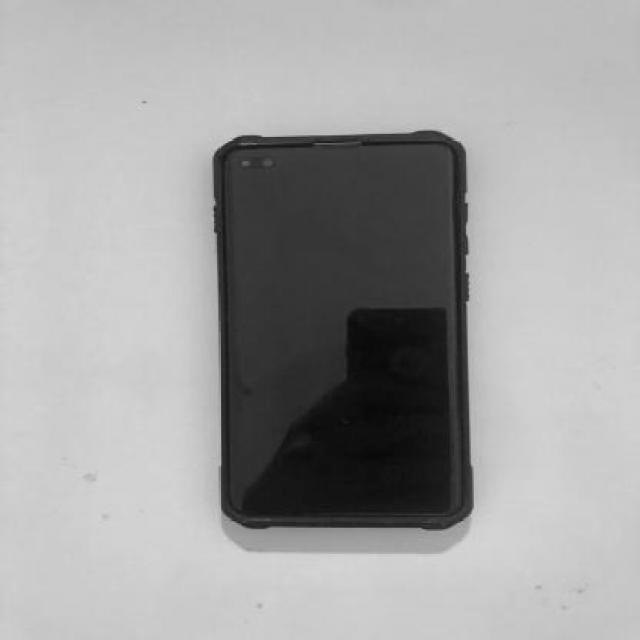fake: (209, 128, 474, 532)
